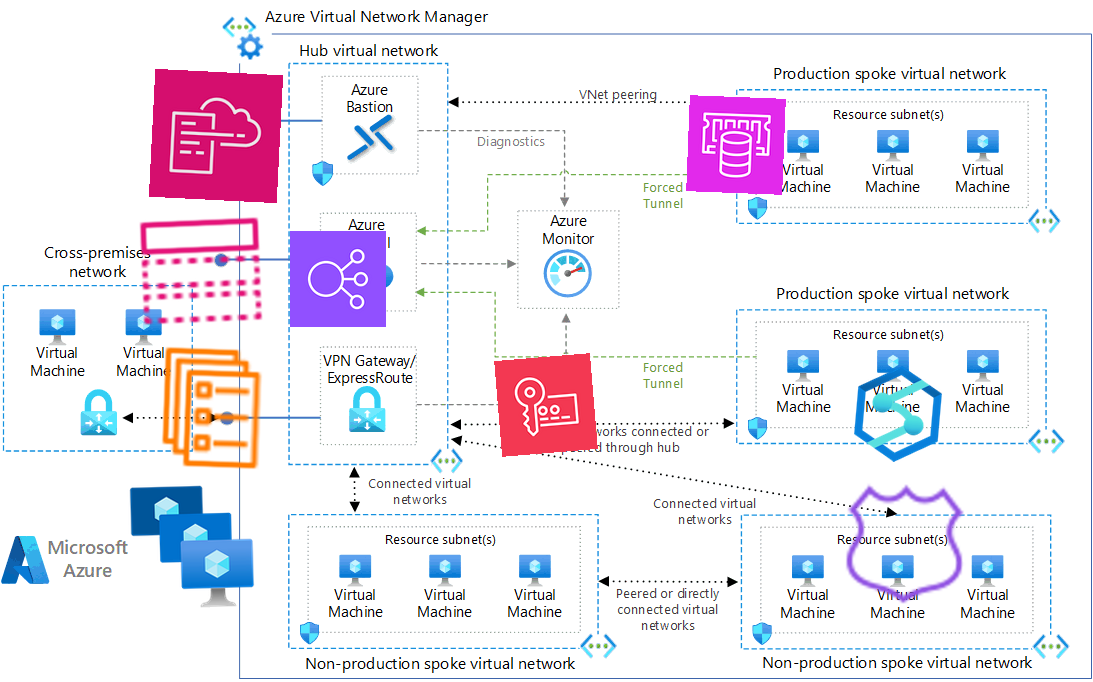aws_amazon_elasticache: (686, 95, 786, 195)
aws_cloudformation: (148, 68, 284, 204)
aws_elastic_container_service_service: (145, 341, 279, 475)
aws_elastic_load_balancing: (289, 230, 387, 328)
aws_key_management_service: (494, 353, 598, 457)
aws_route_53_hosted_zone: (840, 478, 972, 610)
aws_simple_notification_service_topic: (134, 204, 268, 338)
azure_synapse_analytics: (846, 362, 950, 466)
azure_vm_scale_sets: (124, 478, 256, 610)
